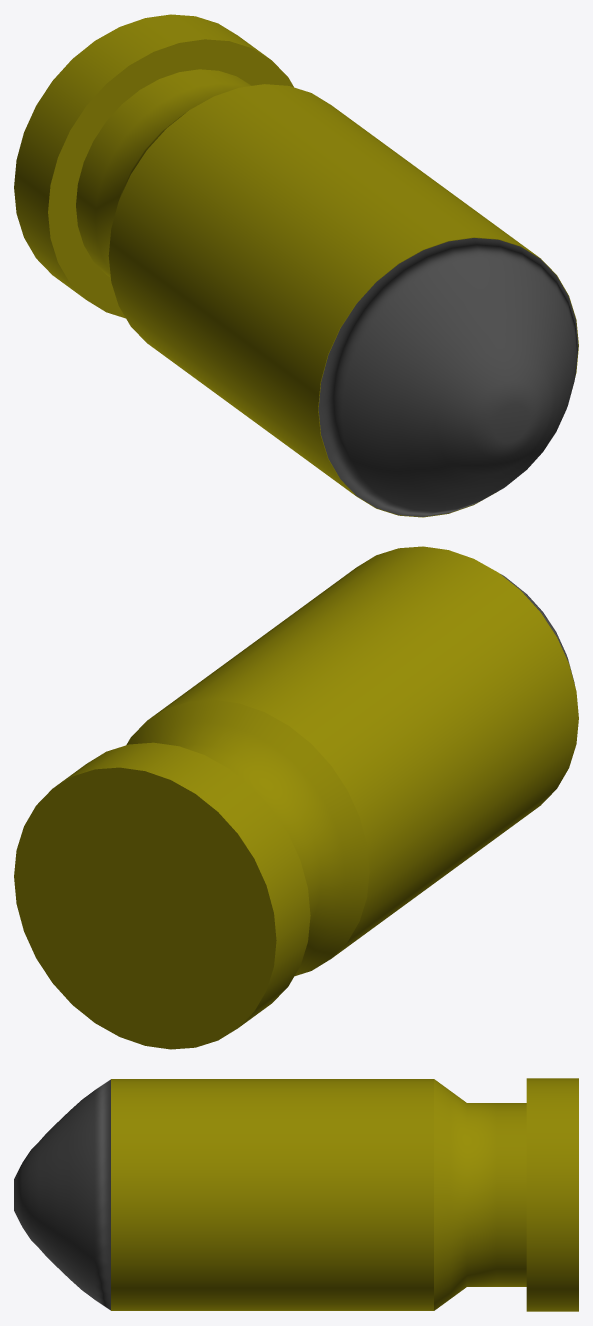
Rendered from bullet.fbx.
The picture shows the model from 3 angles, top to bottom: view 1: azimuth 30°, elevation 25°; view 2: azimuth 150°, elevation 25°; view 3: azimuth 270°, elevation 25°; orthographic projection. The views are drawn at different scales.
Visible parts, largest first — view 1: Bullet; view 2: Bullet; view 3: Bullet.
Boxes of the visible parts, box(x1,y1,x2,y2) form: Bullet: box(14, 14, 578, 517); Bullet: box(14, 546, 578, 1049); Bullet: box(14, 1078, 578, 1311).
Bounding box in the file's own units: 64.11 × 64.11 × 155.
